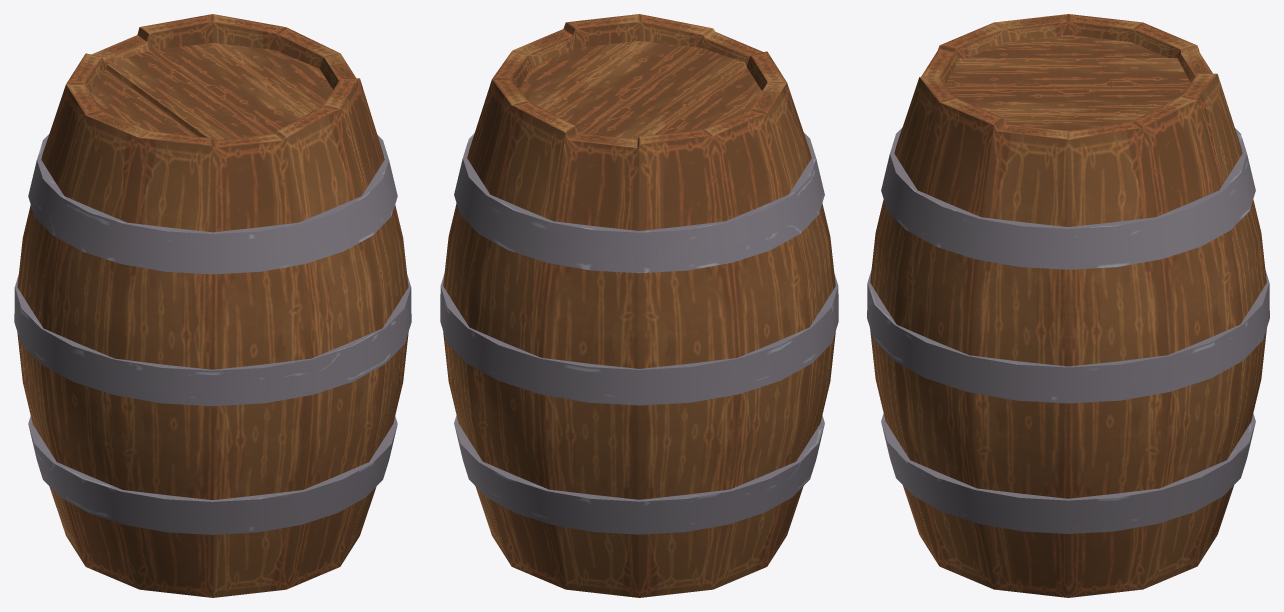
Rendered from Barrel_Dark.fbx.
3 renders of one model, left to right at view 1: azimuth 30°, elevation 25°; view 2: azimuth 150°, elevation 25°; view 3: azimuth 270°, elevation 25°, orthographic.
Visible parts, largest first — view 1: Barrel_Dark; view 2: Barrel_Dark; view 3: Barrel_Dark.
Boxes of the visible parts, bbox=[...] form: Barrel_Dark: bbox=[14, 14, 411, 597]; Barrel_Dark: bbox=[440, 14, 838, 597]; Barrel_Dark: bbox=[867, 14, 1269, 597].
Bounding box in the file's own units: 69.8 × 89.15 × 69.8.
